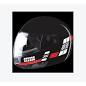helmets: (13, 14, 73, 71)
